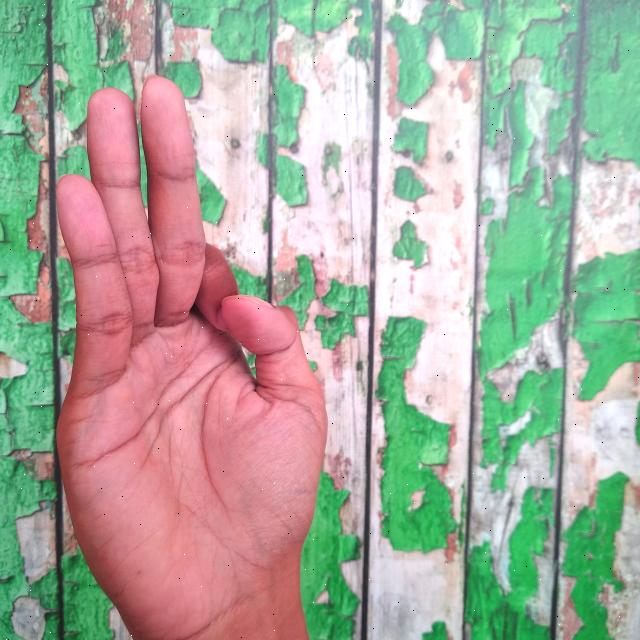F: (56, 73, 334, 640)
